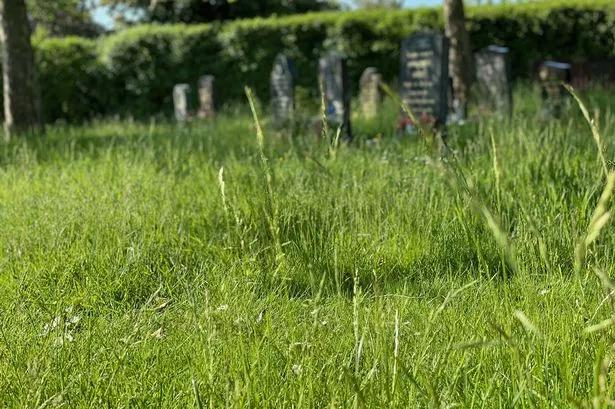overgrown grass: (0, 102, 614, 408)
